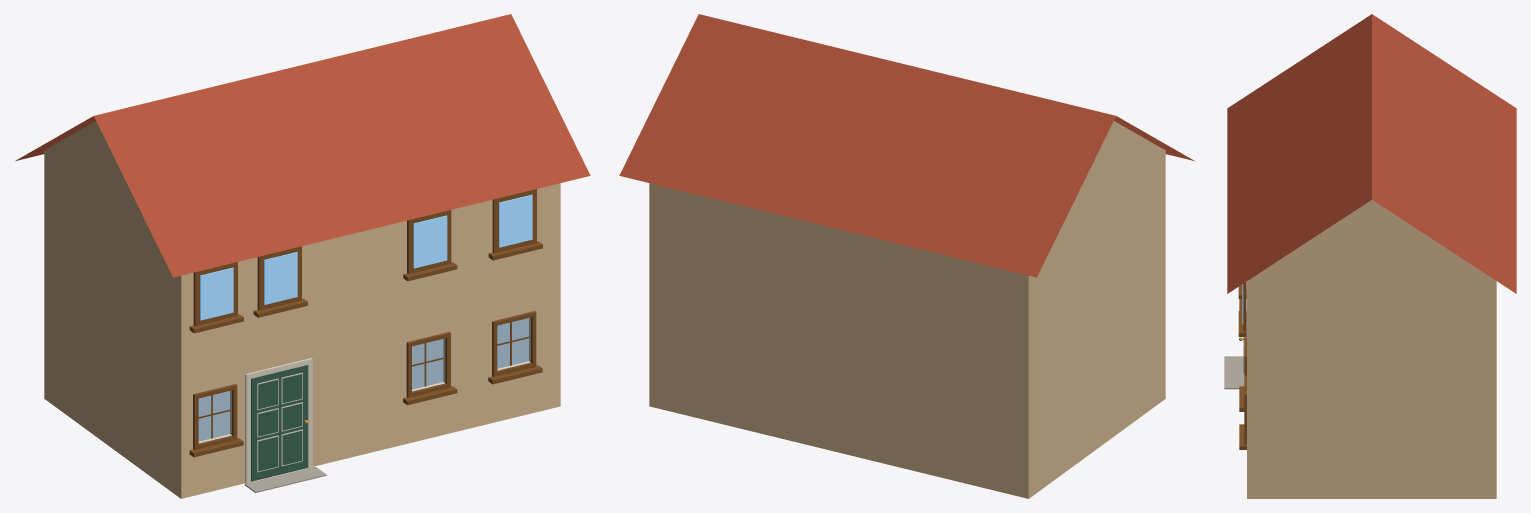
File: house.glb
3 views of the same model, side by side, from view 1: azimuth 30°, elevation 25°; view 2: azimuth 150°, elevation 25°; view 3: azimuth 270°, elevation 25° (orthographic). The views are drawn at different scales.
Parts seen in each view (by area): view 1: Roof, wall-left, wall-front-right, pane (×7), wall-front-right-4, wall-front-right-7, wall-front-left, frame (×4), lintel-front, GableLeft, wall-front-left-4, leaf (+10 smaller); view 2: wall-back, Roof, wall-left, GableLeft, wall-front-left; view 3: Roof, wall-right, GableRight, wall-front-right-7, wall-back, step.
Part boxes in pixels (left/top/right/bottom): Roof: left=15, top=14, right=590, bottom=277; wall-left: left=49, top=155, right=175, bottom=494; wall-front-right: left=307, top=220, right=408, bottom=466; pane (×7): left=198, top=194, right=532, bottom=441; wall-front-right-4: left=447, top=200, right=494, bottom=433; wall-front-right-7: left=532, top=183, right=560, bottom=413; wall-front-left: left=175, top=272, right=195, bottom=498; frame (×4): left=193, top=189, right=536, bottom=326; lintel-front: left=250, top=245, right=306, bottom=372; GableLeft: left=44, top=121, right=147, bottom=225; wall-front-left-4: left=233, top=259, right=249, bottom=485; leaf: left=251, top=365, right=308, bottom=481; wall-back: left=649, top=183, right=1034, bottom=498; Roof: left=619, top=14, right=1194, bottom=277; wall-left: left=1034, top=155, right=1160, bottom=494; GableLeft: left=1062, top=121, right=1165, bottom=225; wall-front-left: left=1160, top=151, right=1165, bottom=402; Roof: left=1227, top=14, right=1516, bottom=293; wall-right: left=1257, top=272, right=1486, bottom=498; GableRight: left=1260, top=200, right=1483, bottom=272; wall-front-right-7: left=1247, top=275, right=1256, bottom=498; wall-back: left=1487, top=275, right=1496, bottom=498; step: left=1224, top=356, right=1244, bottom=389.
Bounding box in the file's own units: 8.8 × 6.8 × 5.86.
